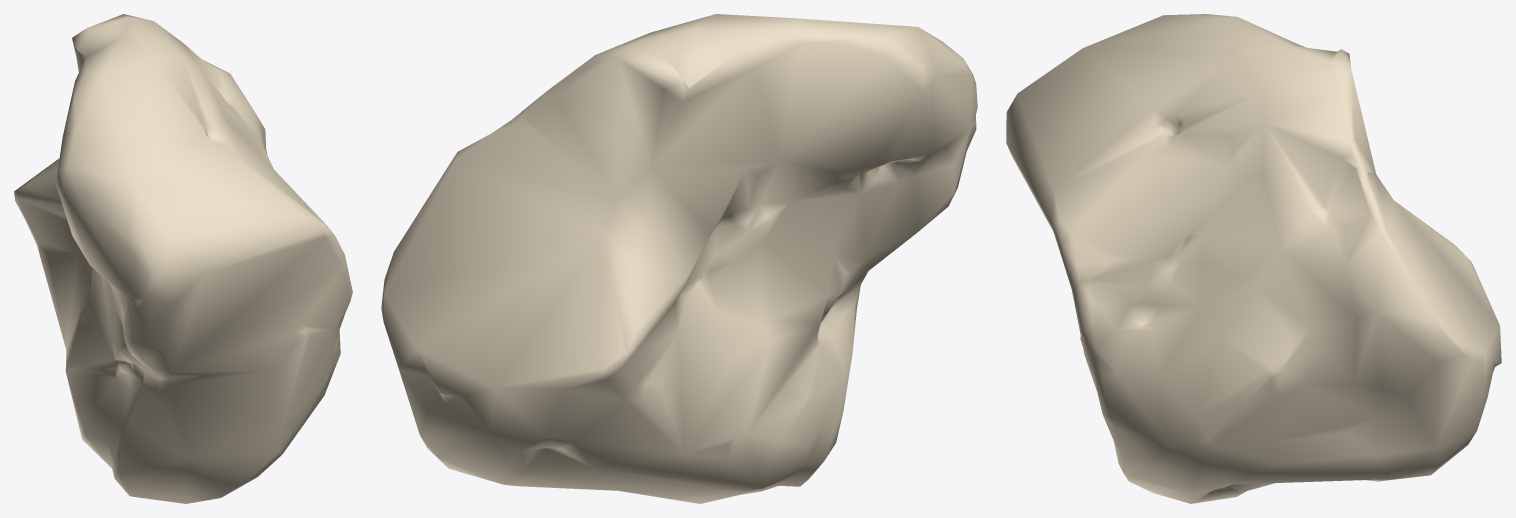
File: medial-cuneiform-bone-r.glb
3 renders of one model, left to right at view 1: azimuth 30°, elevation 25°; view 2: azimuth 150°, elevation 25°; view 3: azimuth 270°, elevation 25°, orthographic. The views are drawn at different scales.
Parts seen in each view (by area): view 1: Medial cuneiform bone.r; view 2: Medial cuneiform bone.r; view 3: Medial cuneiform bone.r.
Part boxes in pixels (box(x1,y1,x2,y2)): Medial cuneiform bone.r: box(14, 14, 352, 503); Medial cuneiform bone.r: box(381, 14, 977, 503); Medial cuneiform bone.r: box(1006, 14, 1501, 503).
Bounding box in the file's own units: 0.0251 × 0.0323 × 0.033.
